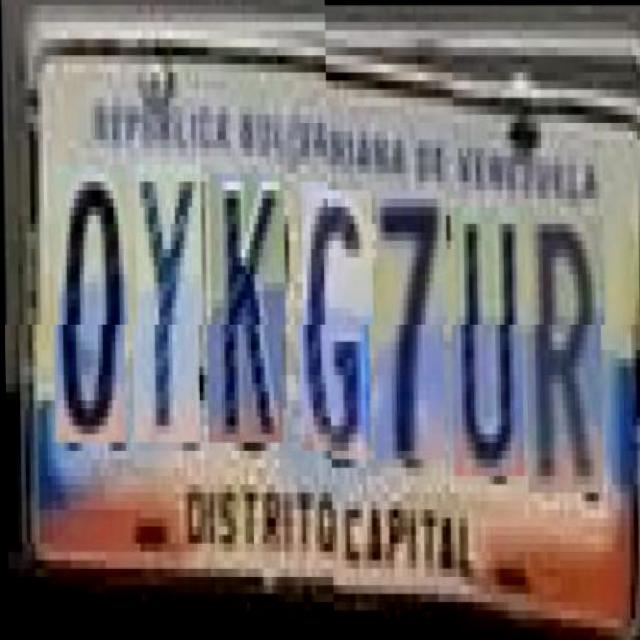7: (375, 190, 448, 459)
g: (300, 190, 374, 459)
k: (208, 182, 287, 452)
o: (55, 173, 129, 451)
r: (528, 215, 606, 493)
u: (453, 207, 528, 476)
y: (135, 173, 204, 451)
